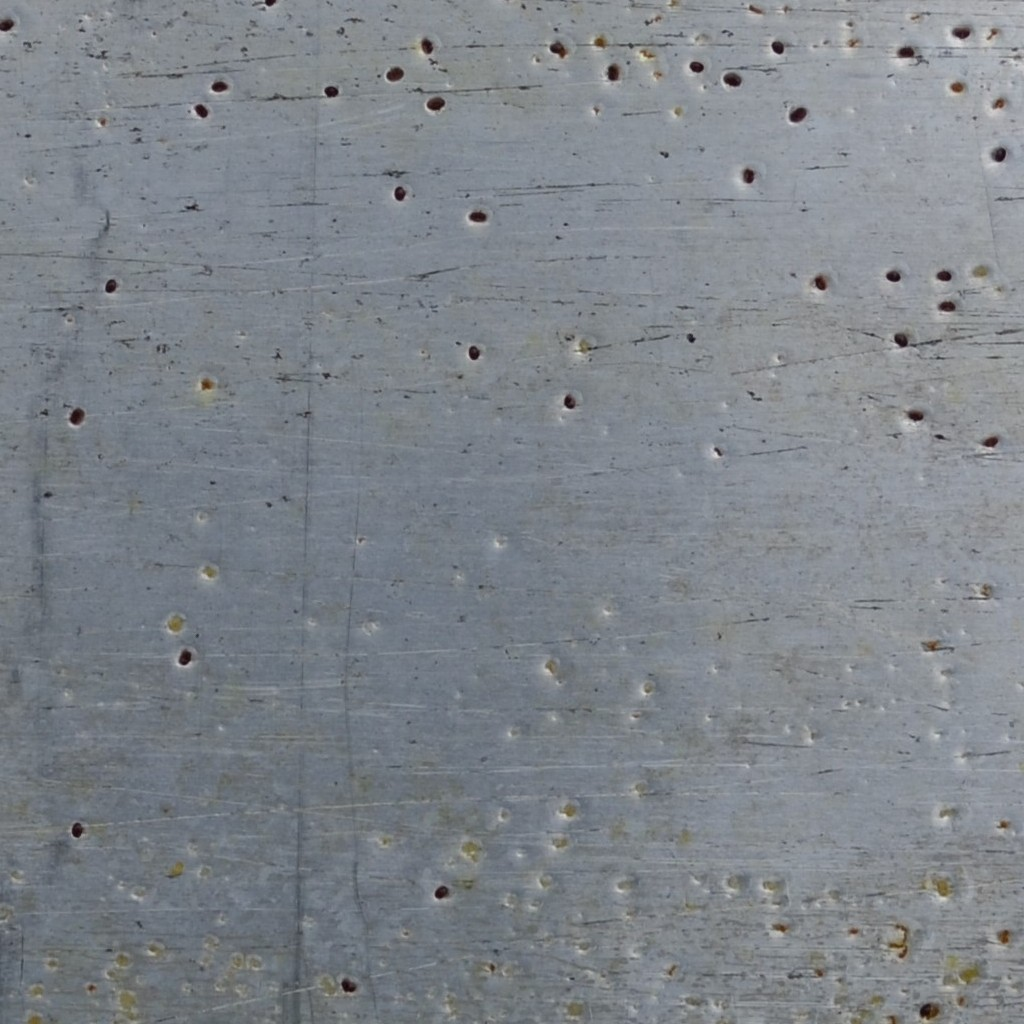varroa: (786, 101, 807, 128), (720, 68, 743, 89), (466, 208, 490, 228), (892, 327, 911, 352), (340, 972, 361, 993), (384, 64, 406, 84), (423, 95, 446, 114), (66, 406, 85, 429), (950, 24, 972, 43), (990, 143, 1009, 165), (980, 433, 1002, 451), (547, 39, 567, 58), (391, 182, 409, 203), (191, 102, 212, 120), (419, 35, 435, 58), (323, 83, 342, 102), (906, 407, 926, 425), (604, 62, 622, 82), (562, 389, 580, 409), (209, 77, 229, 95), (686, 59, 707, 76), (466, 341, 482, 363), (883, 267, 902, 285), (937, 299, 958, 315), (740, 165, 756, 186), (811, 272, 829, 290), (176, 648, 193, 667), (432, 884, 451, 901), (897, 43, 915, 60), (769, 39, 787, 56), (71, 818, 85, 839), (102, 276, 118, 294), (935, 268, 954, 282), (0, 15, 13, 35), (261, 0, 282, 8)
